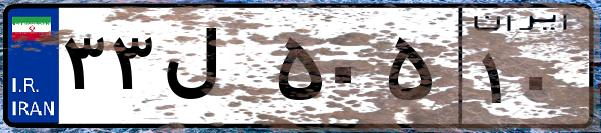0: (330, 28, 385, 110), (525, 38, 570, 115)
1: (475, 38, 525, 113)
3: (57, 26, 110, 100), (110, 28, 158, 98)
5: (270, 28, 330, 110), (385, 28, 445, 110)
ل: (158, 20, 270, 120)
